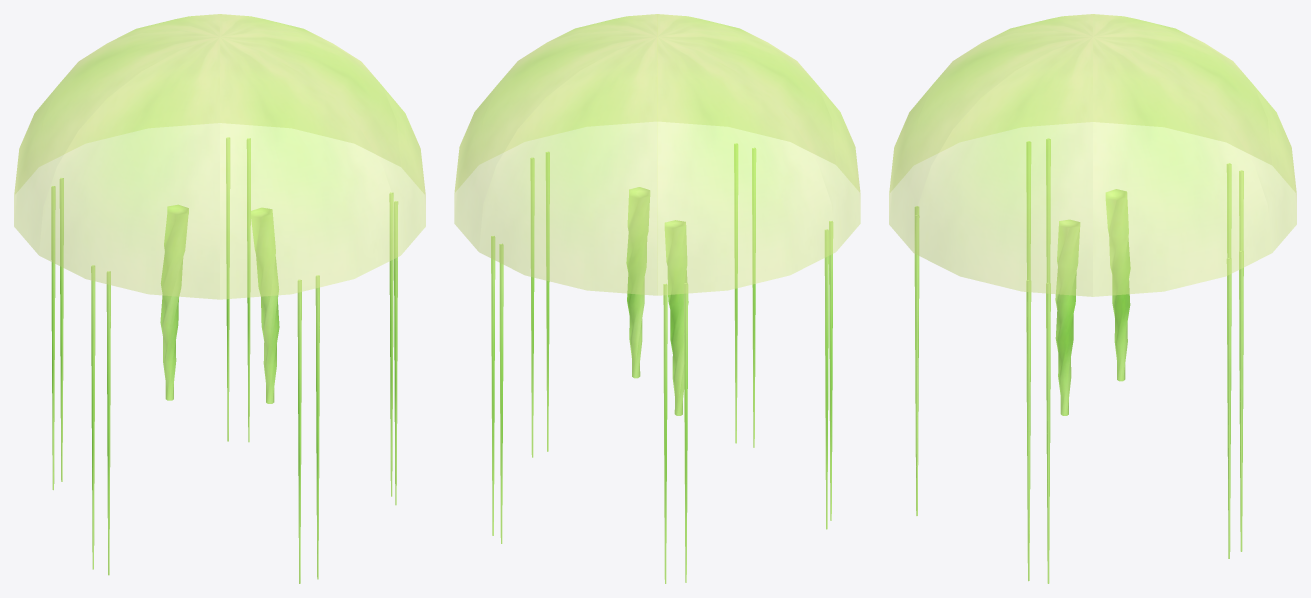
File: alien_spore_drifter.glb
The picture shows the model from 3 angles, left to right: view 1: azimuth 30°, elevation 25°; view 2: azimuth 150°, elevation 25°; view 3: azimuth 270°, elevation 25°; orthographic projection.
Bounding box in the file's own units: 0.7 × 0.8855 × 0.6894.
Materials: 2 (2 with a texture image).
